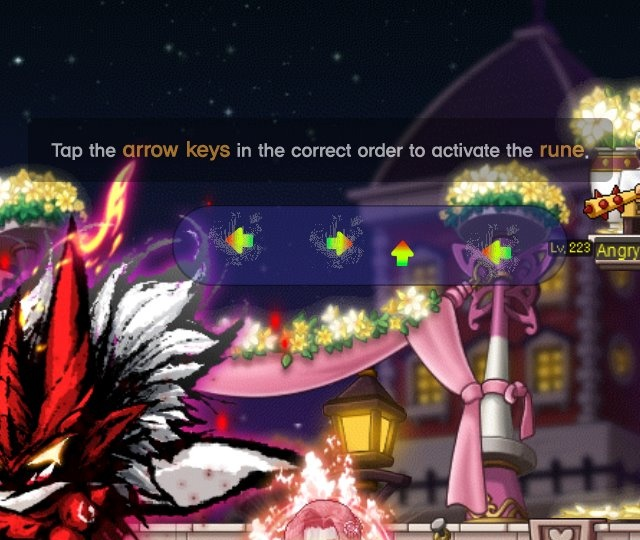left: (218, 221, 262, 260), (476, 232, 517, 270)
right: (321, 225, 358, 262)
up: (382, 233, 420, 273)
